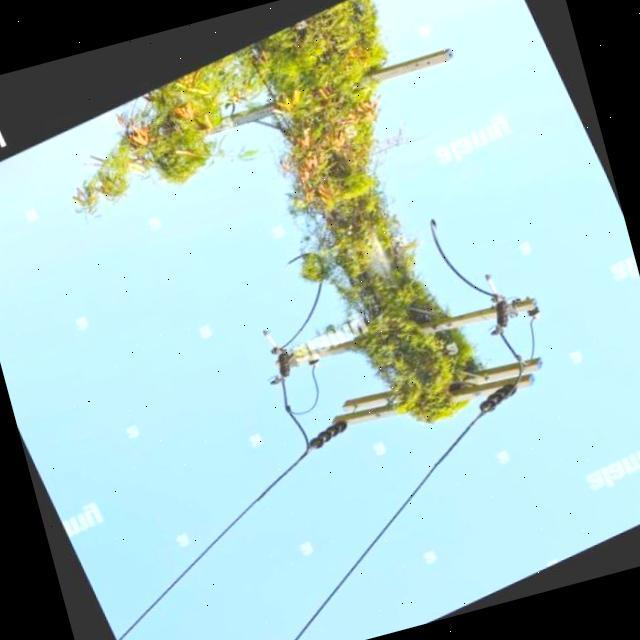critical vegetation: (155, 0, 576, 487)
